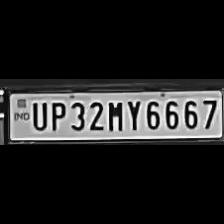2: (87, 98, 105, 132)
3: (66, 98, 86, 132)
6: (142, 98, 160, 130), (180, 97, 198, 129), (162, 98, 178, 130)
7: (200, 97, 216, 129)
M: (104, 98, 124, 132)
P: (47, 99, 65, 131)
U: (29, 99, 47, 130)
Y: (124, 98, 142, 132)
